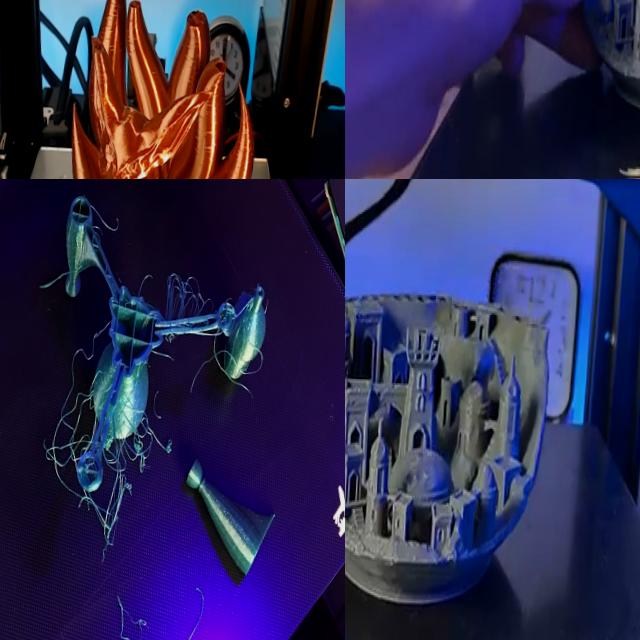spaghetti: (93, 401, 195, 498), (42, 364, 87, 501), (84, 496, 148, 564)
